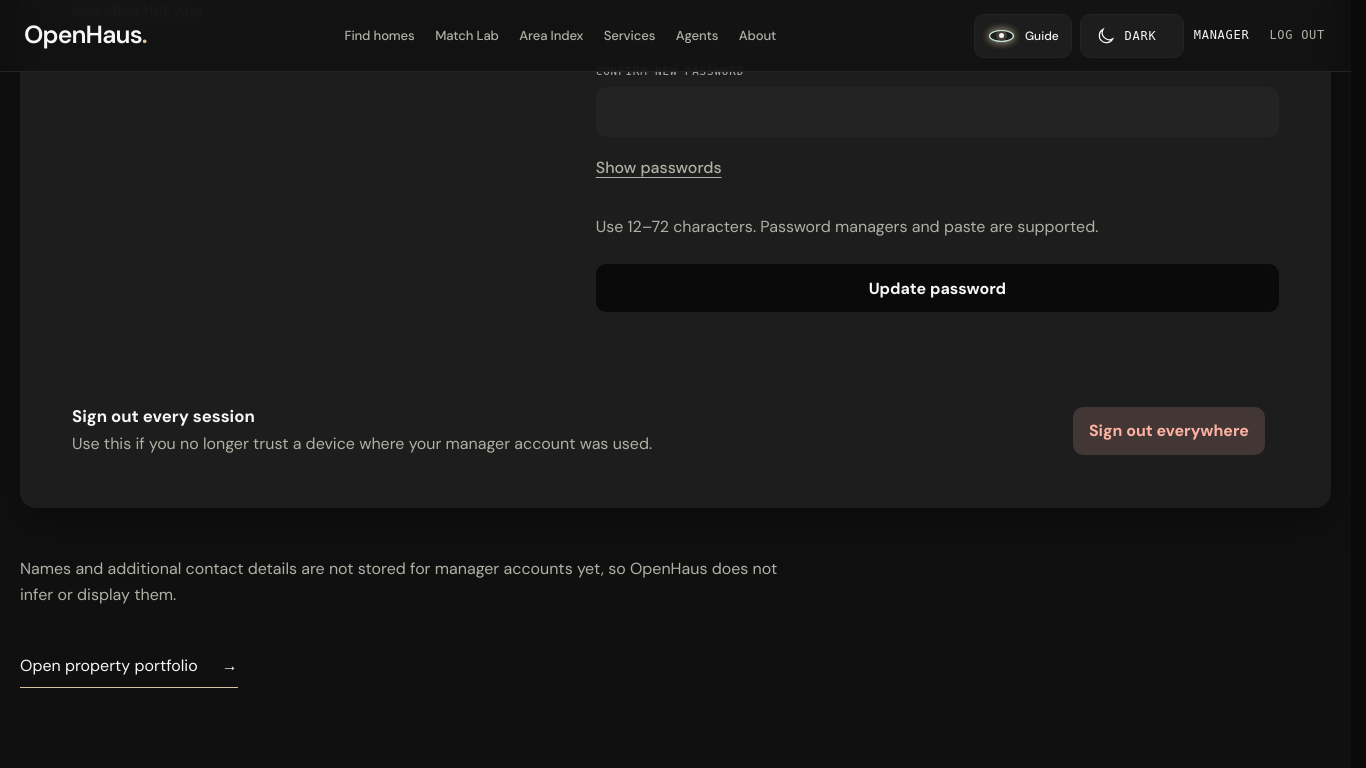
Test: manager application › confirms before signing out every manager session
The width and height of the screenshot is (1366, 768).
(page scrolled)
Click the button "Sign out everywhere".
click(1169, 431)  # box [1073,407,1265,455]
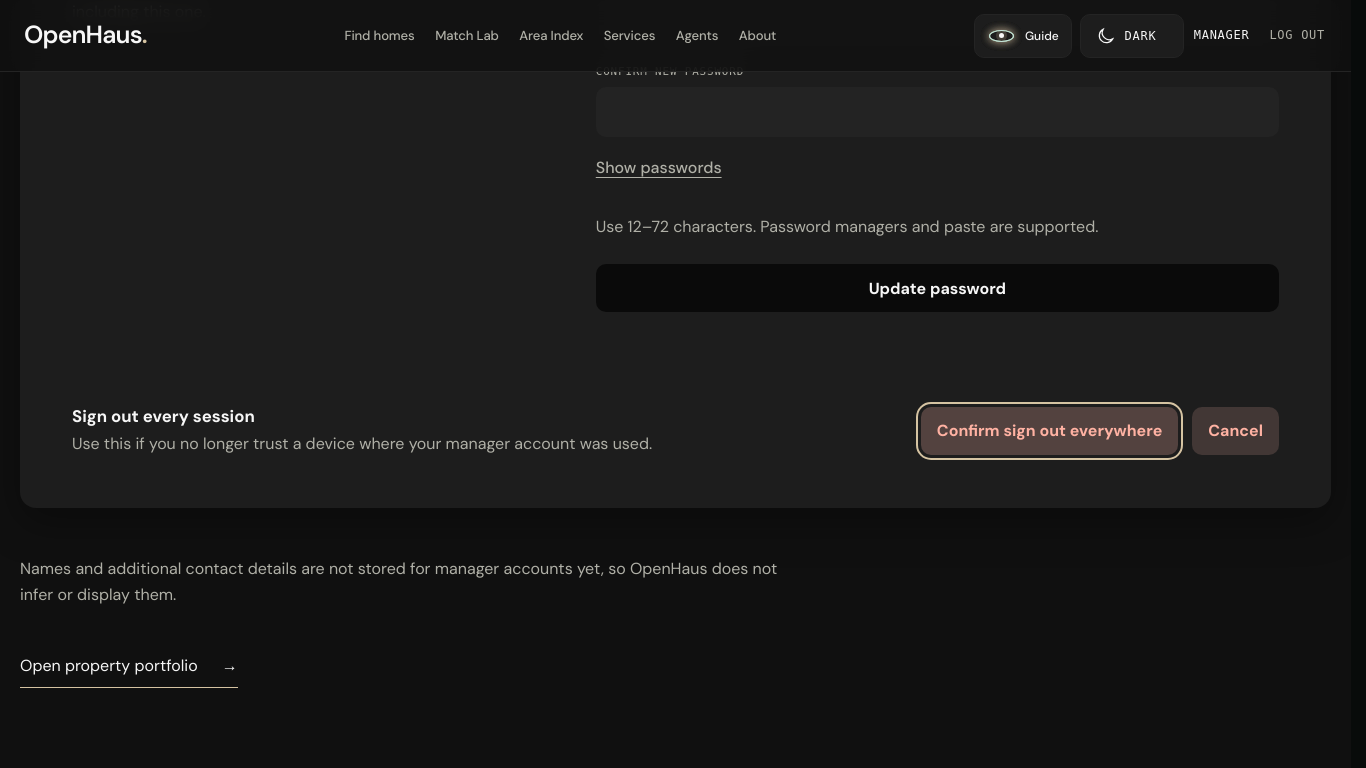
Click the button "Confirm sign out everywhere".
click(1050, 431)  # box [921,407,1178,455]
(page scrolled)
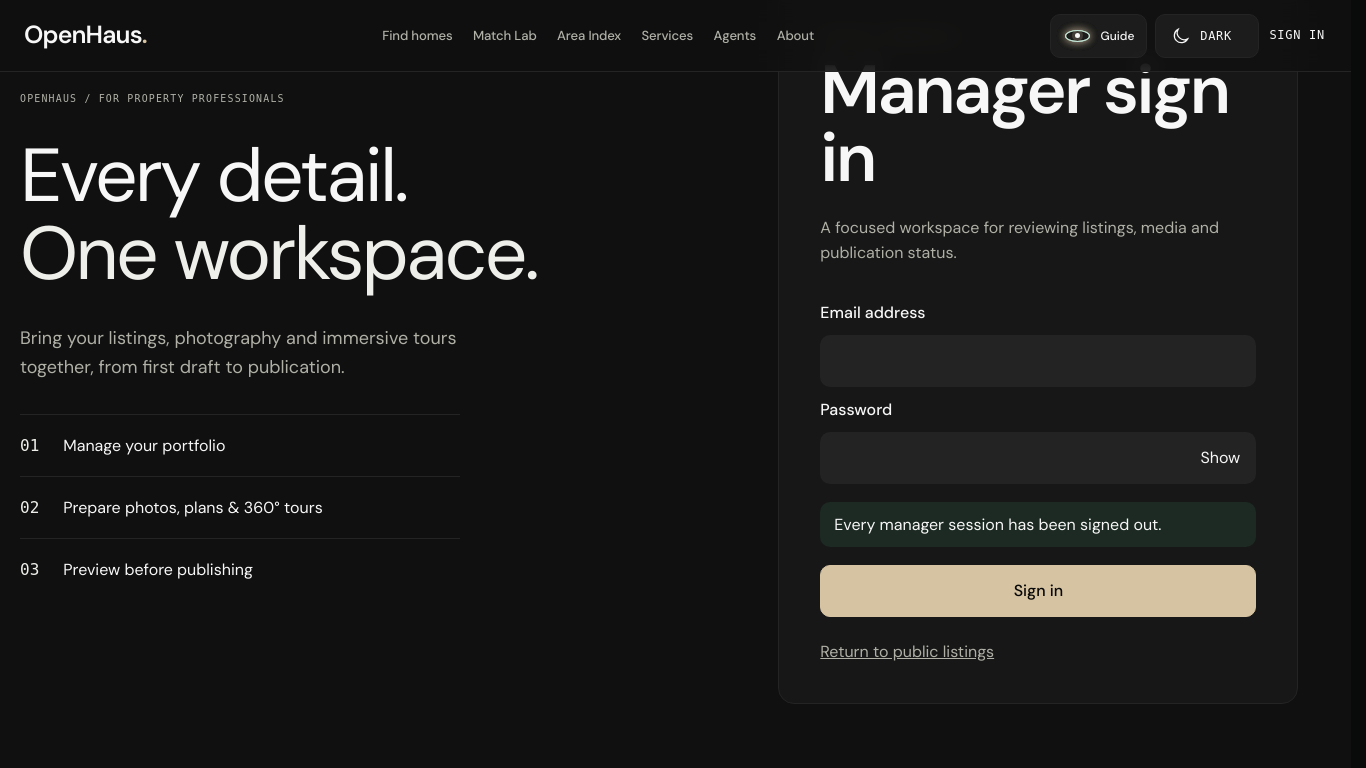
Result: the text "Every manager session has been signed out." is shown at [820,502,1256,547]
